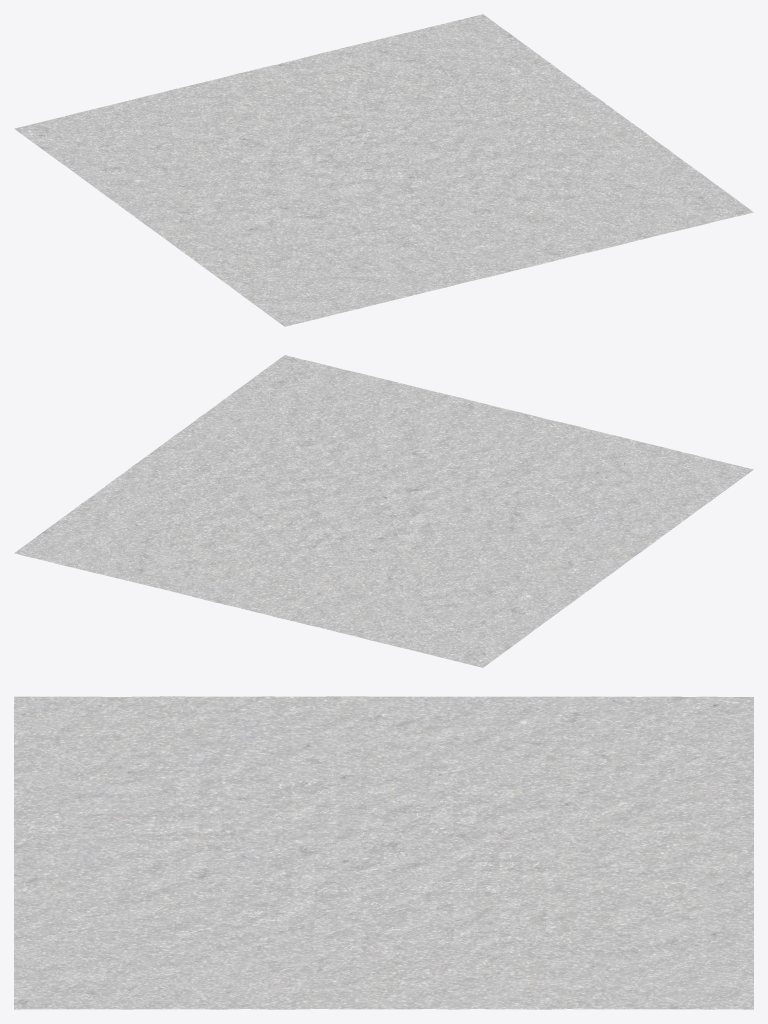
The model's file is ground.obj.
The picture shows the model from 3 angles, top to bottom: view 1: azimuth 30°, elevation 25°; view 2: azimuth 150°, elevation 25°; view 3: azimuth 270°, elevation 25°; orthographic projection. The views are drawn at different scales.
Visible parts, largest first — view 1: Ground_Plane; view 2: Ground_Plane; view 3: Ground_Plane.
Boxes of the visible parts, x1,y1,x2,y2 form: Ground_Plane: (14,14,753,326); Ground_Plane: (14,355,753,667); Ground_Plane: (14,696,753,1009).
Size of the model in its own units: 65.28 by 0.1704 by 65.28.
